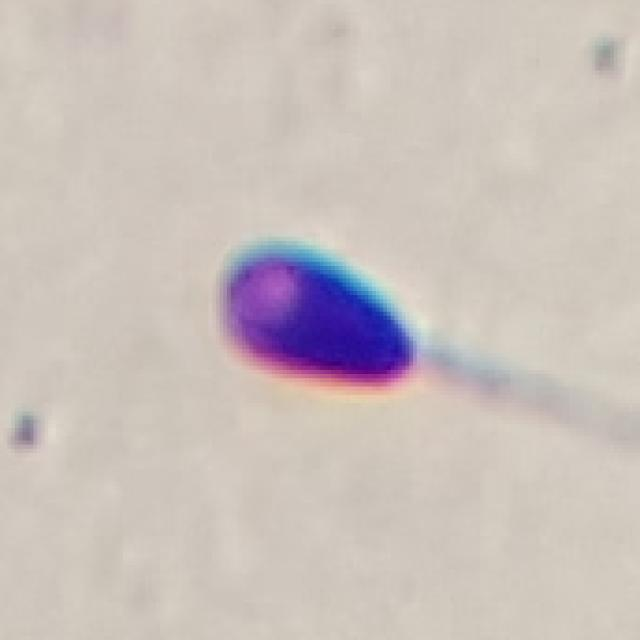normal sperm: (215, 233, 518, 421)
